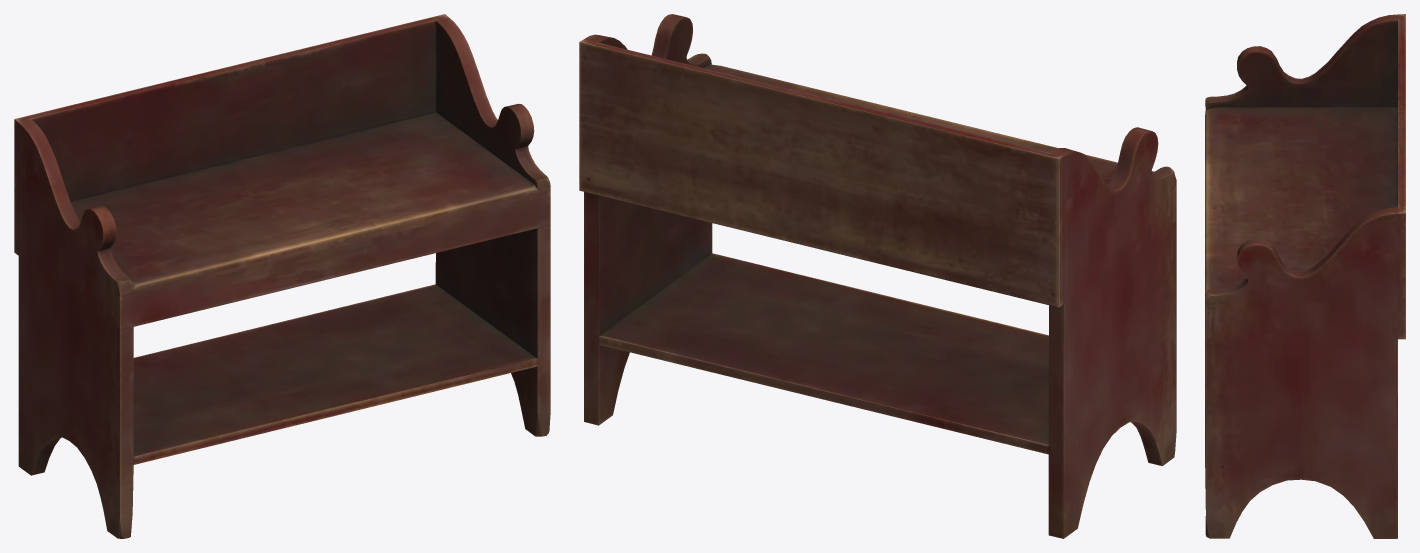
Rendered from bench.glb.
3 renders of one model, left to right at view 1: azimuth 30°, elevation 25°; view 2: azimuth 150°, elevation 25°; view 3: azimuth 270°, elevation 25°, orthographic. The views are drawn at different scales.
Visible parts, largest first — view 1: painted_wooden_bench; view 2: painted_wooden_bench; view 3: painted_wooden_bench.
Part boxes in pixels (box(x1,y1,x2,y2)): painted_wooden_bench: box(14, 14, 550, 538); painted_wooden_bench: box(579, 14, 1176, 538); painted_wooden_bench: box(1205, 14, 1405, 538).
Size of the model in its own units: 1.18 by 0.9001 by 0.5025.
Materials: 1 (1 with a texture image).
